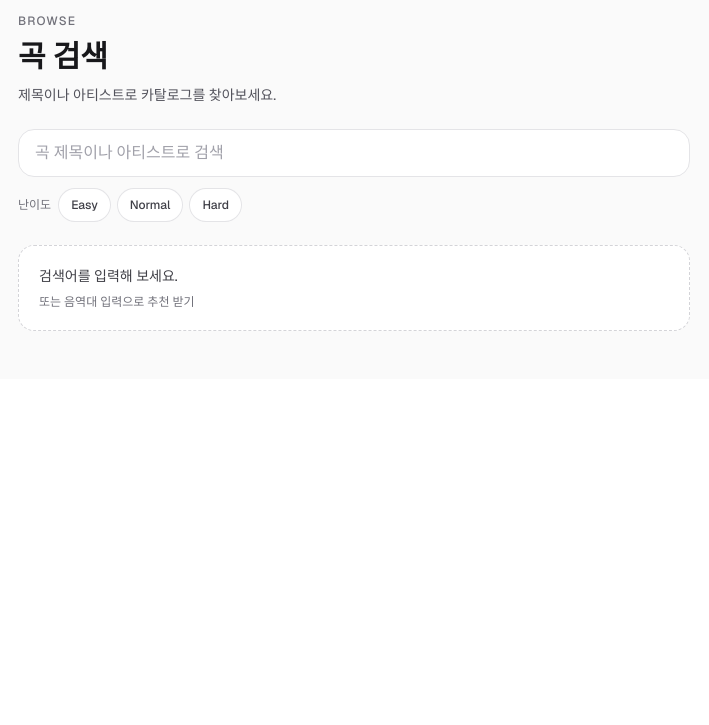
Test: /songs 검색 페이지 query/cleanup race 가드 (#1100 후속) › 시나리오 1: keyword 전환 시 이전 keyword 응답이 새 keyword 결과 오염 안 함 (queryKey 격리)
The image size is (709, 725).
첫 keyword "hello" 입력 → 디바운스 통과 → 첫 호출.
Type "hello" into the search field with placeholder "곡 제목이나 아티스트로 검색" at (354, 153), box [18,129,690,177]
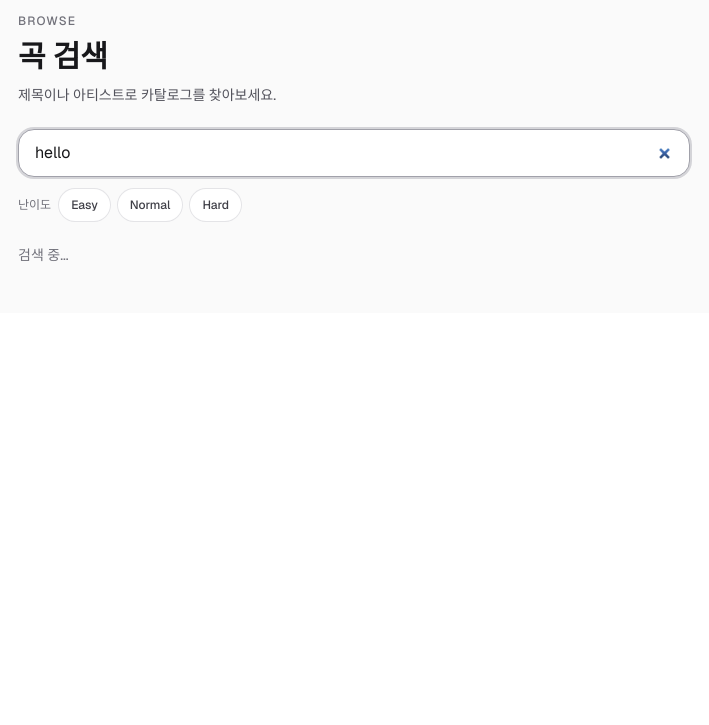
사용자가 keyword 갈아끼움 — 기존 입력 전부 지우고 "world" 새로 입력.
Replace the text in the search field with placeholder "곡 제목이나 아티스트로 검색" with "world" at (354, 153), box [18,129,690,177]
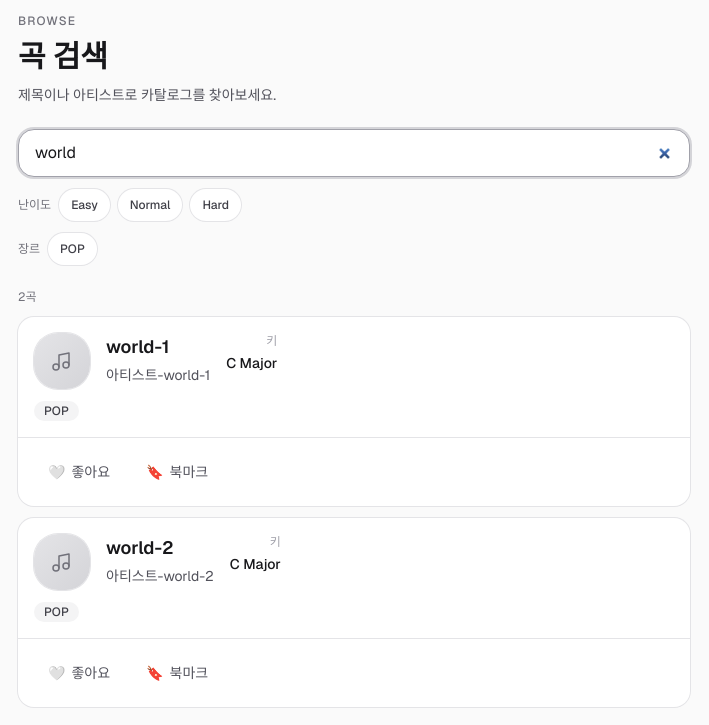
Check: the heading "world-1" is shown, box [106,335,169,358]
Check: the heading "world-2" is shown, box [106,536,174,559]
